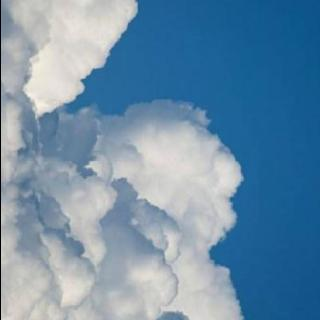Cumulus: (0, 0, 252, 320)
